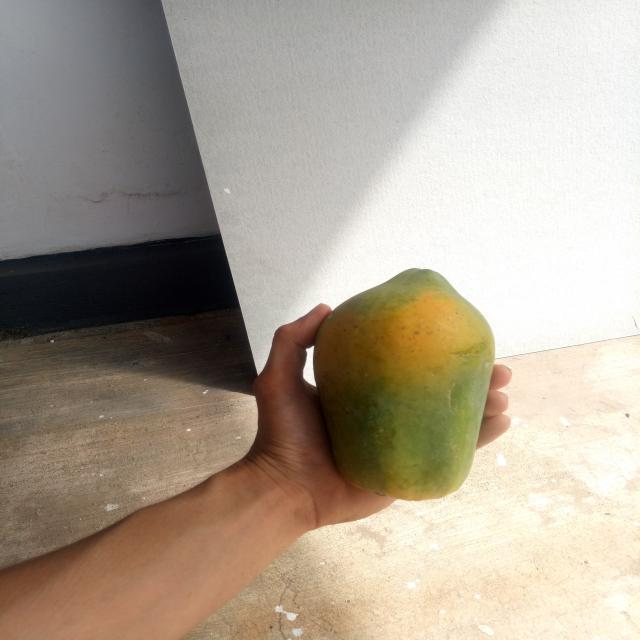Pepaya rippen: (320, 258, 488, 511)
